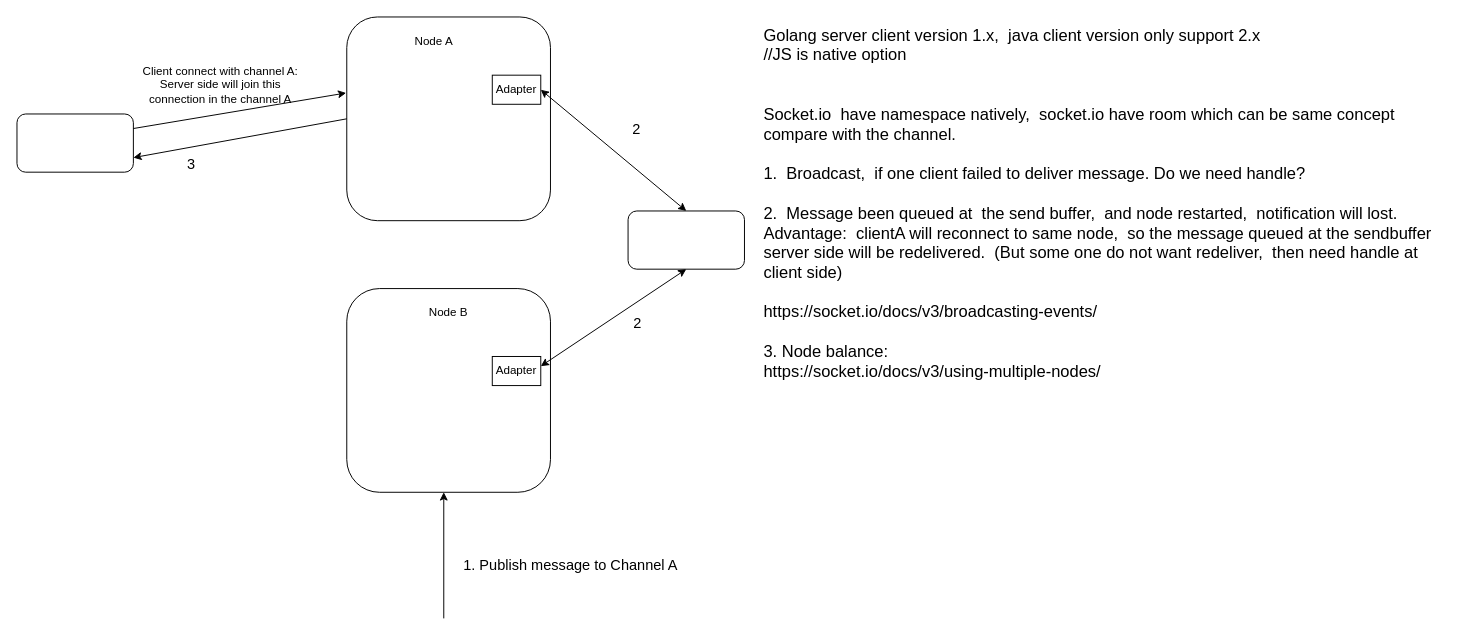
Image size: 1460x643. Some labels were removed from this diagram. Each missing label, with the box of its shape:
Client A: (16, 113, 133, 172)
Redis: (627, 210, 744, 269)
